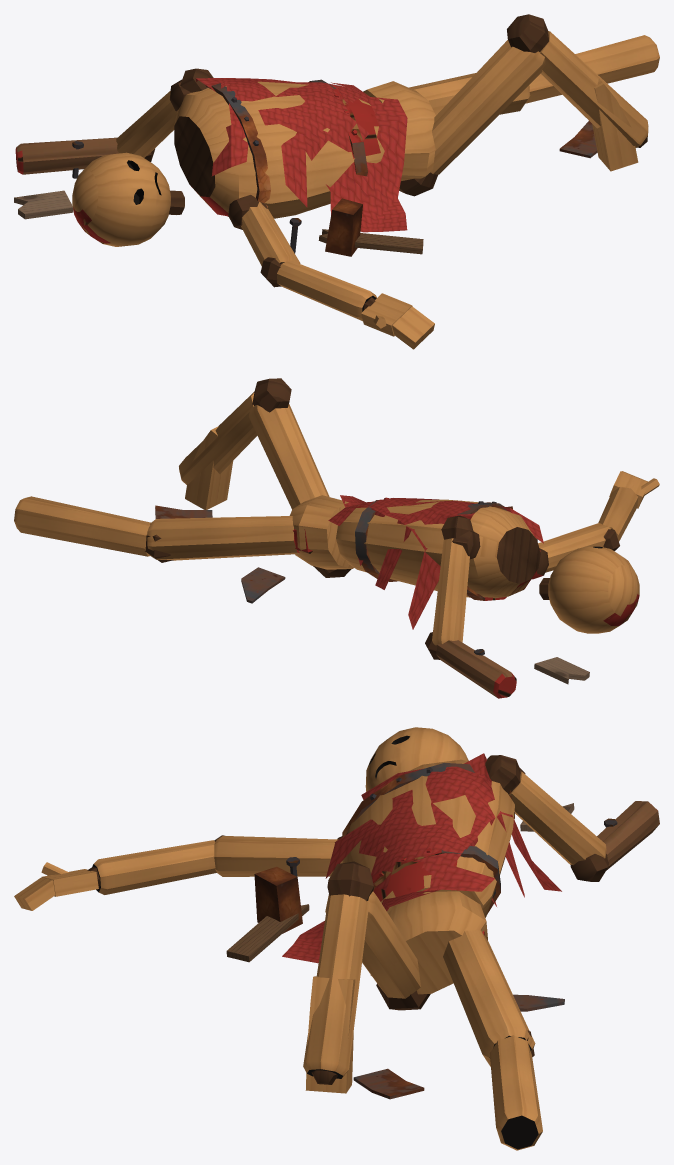
Rendered from Broken_Puppet.glb.
The picture shows the model from 3 angles, top to bottom: view 1: azimuth 30°, elevation 25°; view 2: azimuth 150°, elevation 25°; view 3: azimuth 270°, elevation 25°; orthographic projection. The views are drawn at different scales.
Parts seen in each view (by area): view 1: Broken_Puppet; view 2: Broken_Puppet; view 3: Broken_Puppet.
Part boxes in pixels (x1,y1,x2,y2): Broken_Puppet: (14,14,659,349); Broken_Puppet: (14,378,659,698); Broken_Puppet: (14,727,659,1150).
Size of the model in its own units: 1.8 by 0.4822 by 1.42.
Materials: 11 (10 with a texture image).
